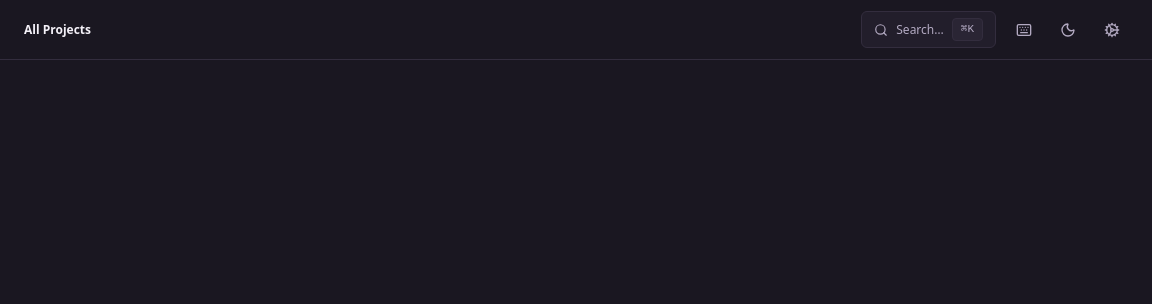
Test case: TopBar › TB10: clicking the Keyboard shortcuts button toggles the HelpOverlay (independent of useFirstRunHint)
Expected: the button "got it" is not shown
Note: After click: overlay should appear
Click the button named "keyboard shortcuts" at (1024, 30), box [1008,14,1040,46]
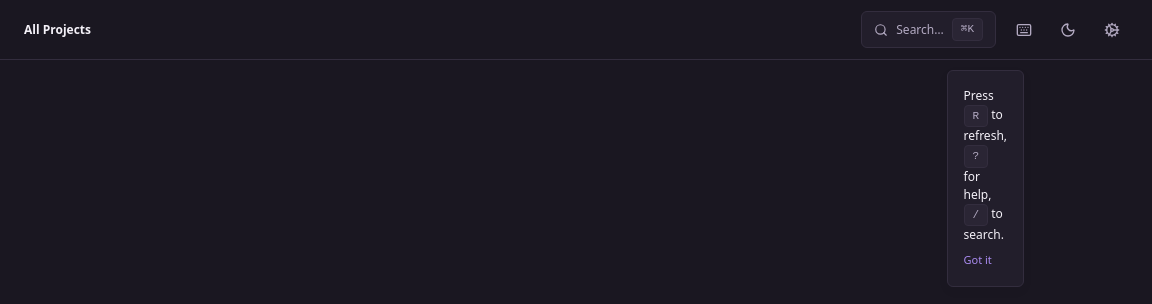
Expected: the button "Got it" is shown
Note: Click "Got it" to dismiss
Click the button "Got it" at (978, 260), box [964,252,992,268]
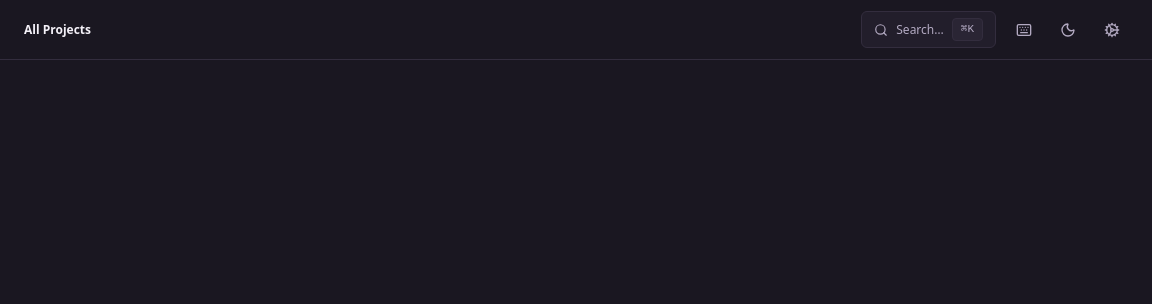
Expected: the button "Got it" is gone
